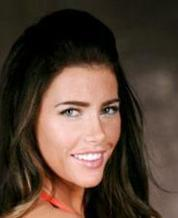face: (55, 98, 123, 169)
